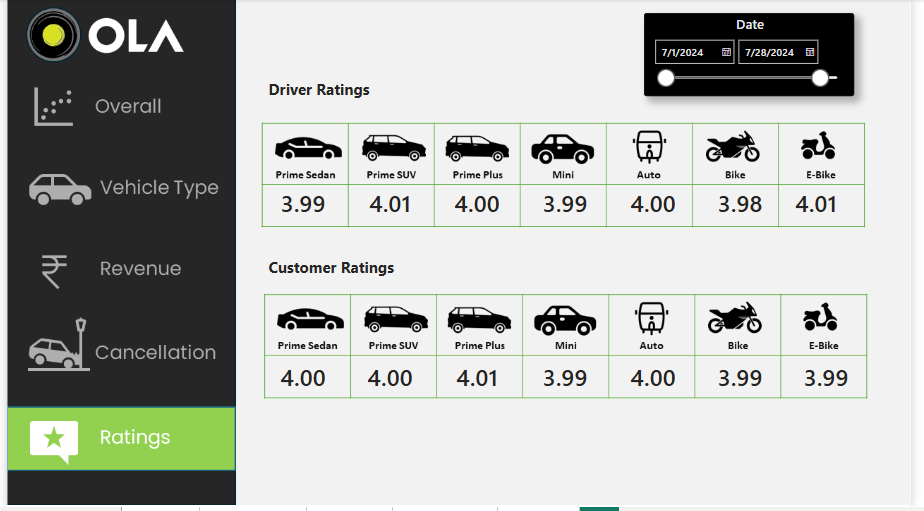

The dashboard page shown, as its layout file describes it:
{"tool":"powerbi","page":{"name":"Ratings","canvas":[1280,720],"ordinal":4},"visuals":[{"type":"actionButton","box":[0,452.1,327.4,90.7],"z":0},{"type":"actionButton","box":[0,109.1,327.4,90.7],"z":1000},{"type":"actionButton","box":[0,338.7,327.4,90.7],"z":2000},{"type":"actionButton","box":[0,221.1,327.4,90.7],"z":3000},{"type":"card","fields":{"Values":["Avg(July.Driver_Ratings)"]},"box":[365,266.7,108.3,45],"z":4000},{"type":"card","fields":{"Values":["Avg(July.Driver_Ratings)"]},"box":[488.3,266.7,108.3,45],"z":5000},{"type":"card","fields":{"Values":["Avg(July.Driver_Ratings)"]},"box":[611.7,266.7,108.3,45],"z":6000},{"type":"card","fields":{"Values":["Avg(July.Driver_Ratings)"]},"box":[736.7,266.7,108.3,45],"z":7000},{"type":"card","fields":{"Values":["Avg(July.Driver_Ratings)"]},"box":[861.7,266.7,108.3,45],"z":8000},{"type":"card","fields":{"Values":["Avg(July.Driver_Ratings)"]},"box":[985,266.7,108.3,45],"z":9000},{"type":"card","fields":{"Values":["Avg(July.Driver_Ratings)"]},"box":[1093.3,266.7,108.3,45],"z":10000},{"type":"card","fields":{"Values":["Avg(July.Customer_Rating)"]},"box":[611.7,513.3,108.3,45],"z":11000},{"type":"textbox","box":[365,108.3,211.7,58.3],"z":12000},{"type":"textbox","box":[365,360,211.7,58.3],"z":13000},{"type":"card","fields":{"Values":["Avg(July.Customer_Rating)"]},"box":[488.3,513.3,108.3,45],"z":14000},{"type":"card","fields":{"Values":["Avg(July.Customer_Rating)"]},"box":[365,513.3,108.3,45],"z":15000},{"type":"card","fields":{"Values":["Avg(July.Customer_Rating)"]},"box":[736.7,513.3,108.3,45],"z":16000},{"type":"card","fields":{"Values":["Avg(July.Customer_Rating)"]},"box":[861.7,513.3,108.3,45],"z":17000},{"type":"card","fields":{"Values":["Avg(July.Customer_Rating)"]},"box":[985,513.3,108.3,45],"z":18000},{"type":"card","fields":{"Values":["Avg(July.Customer_Rating)"]},"box":[1106.7,513.3,108.3,45],"z":19000},{"type":"slicer","title":"Date","fields":{"Values":["July.Date"]},"box":[903.3,20,298.3,118.3],"z":20000}]}

Visuals, with their boxes on the page's 1280x720 design canvas (x1, y1, x2, y2). These are canvas units, not pixel positions in the 924x511 screenshot, which may show the page scaled, cropped or inside an application window:
actionButton: locate(0, 452, 327, 543)
actionButton: locate(0, 109, 327, 200)
actionButton: locate(0, 339, 327, 429)
actionButton: locate(0, 221, 327, 312)
card - Avg(July.Driver_Ratings): locate(365, 267, 473, 312)
card - Avg(July.Driver_Ratings): locate(488, 267, 597, 312)
card - Avg(July.Driver_Ratings): locate(612, 267, 720, 312)
card - Avg(July.Driver_Ratings): locate(737, 267, 845, 312)
card - Avg(July.Driver_Ratings): locate(862, 267, 970, 312)
card - Avg(July.Driver_Ratings): locate(985, 267, 1093, 312)
card - Avg(July.Driver_Ratings): locate(1093, 267, 1202, 312)
card - Avg(July.Customer_Rating): locate(612, 513, 720, 558)
textbox: locate(365, 108, 577, 167)
textbox: locate(365, 360, 577, 418)
card - Avg(July.Customer_Rating): locate(488, 513, 597, 558)
card - Avg(July.Customer_Rating): locate(365, 513, 473, 558)
card - Avg(July.Customer_Rating): locate(737, 513, 845, 558)
card - Avg(July.Customer_Rating): locate(862, 513, 970, 558)
card - Avg(July.Customer_Rating): locate(985, 513, 1093, 558)
card - Avg(July.Customer_Rating): locate(1107, 513, 1215, 558)
"Date" slicer: locate(903, 20, 1202, 138)
